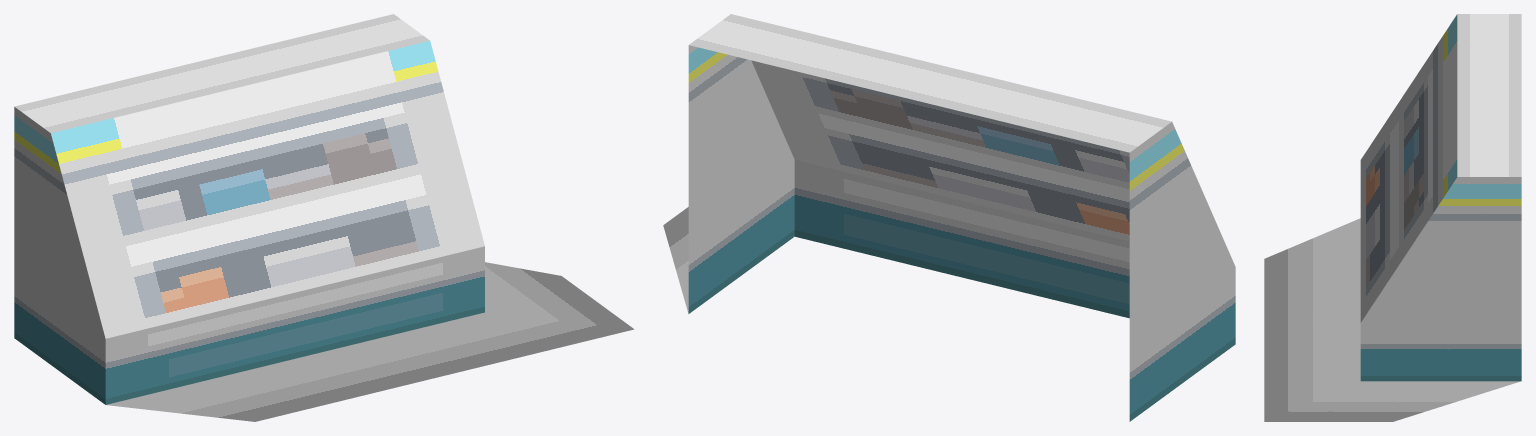
3 views of the same model, side by side, from view 1: azimuth 30°, elevation 25°; view 2: azimuth 150°, elevation 25°; view 3: azimuth 270°, elevation 25° (orthographic). The views are drawn at different scales.
Parts seen in each view (by area): view 1: polygon0, polygon1; view 2: polygon0, polygon1; view 3: polygon0, polygon1.
Boxes of the visible parts, left/top/right/bottom form: polygon0: left=14, top=14, right=484, bottom=404; polygon1: left=107, top=262, right=634, bottom=421; polygon0: left=688, top=14, right=1235, bottom=421; polygon1: left=663, top=207, right=688, bottom=313; polygon0: left=1360, top=14, right=1521, bottom=381; polygon1: left=1264, top=218, right=1520, bottom=421.
Size of the model in its own units: 7.5 by 3.5 by 4.
